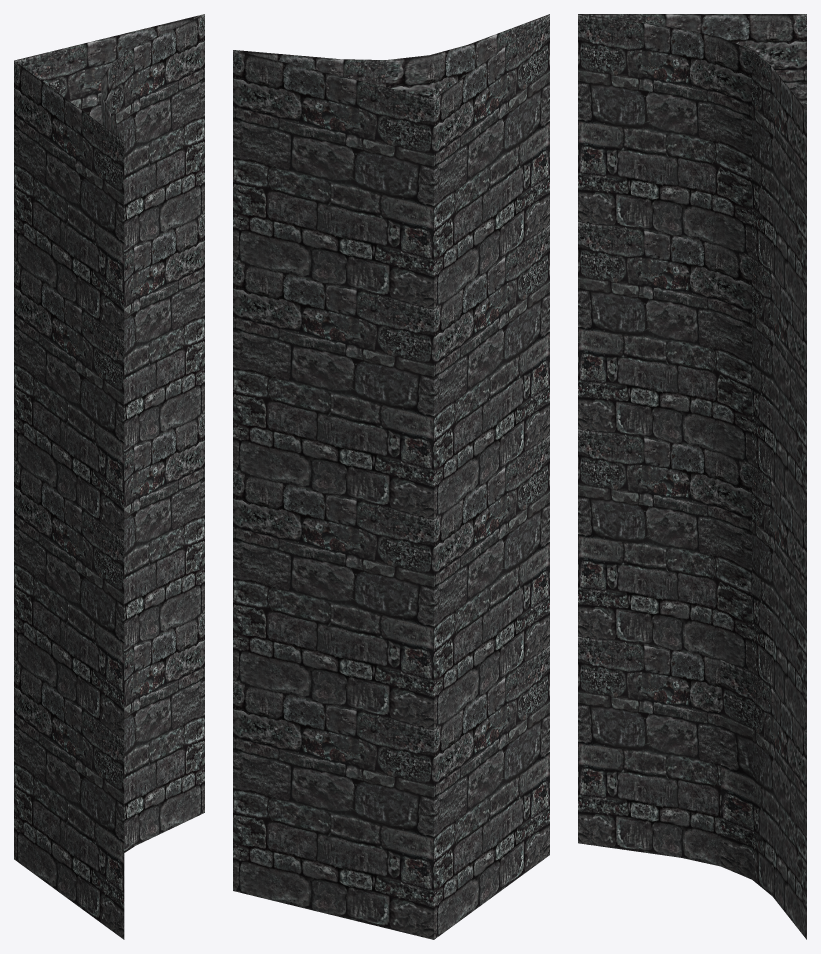
File: blocktile3.fbx
3 renders of one model, left to right at view 1: azimuth 30°, elevation 25°; view 2: azimuth 150°, elevation 25°; view 3: azimuth 270°, elevation 25°, orthographic. The views are drawn at different scales.
Visible parts, largest first — view 1: polySurface15; view 2: polySurface15; view 3: polySurface15.
Boxes of the visible parts, x1,y1,x2,y2 form: polySurface15: [14, 14, 204, 939]; polySurface15: [233, 14, 549, 939]; polySurface15: [578, 14, 806, 939].
Size of the model in its own units: 2 by 8 by 2.
